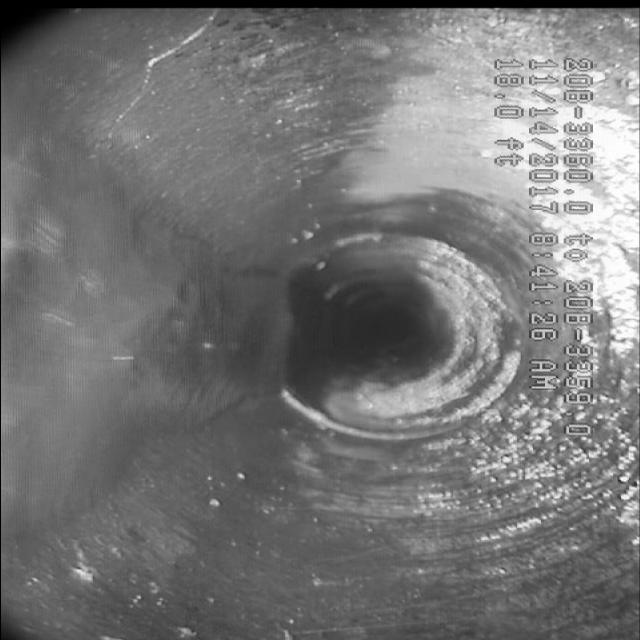Crack: (83, 26, 243, 148)
